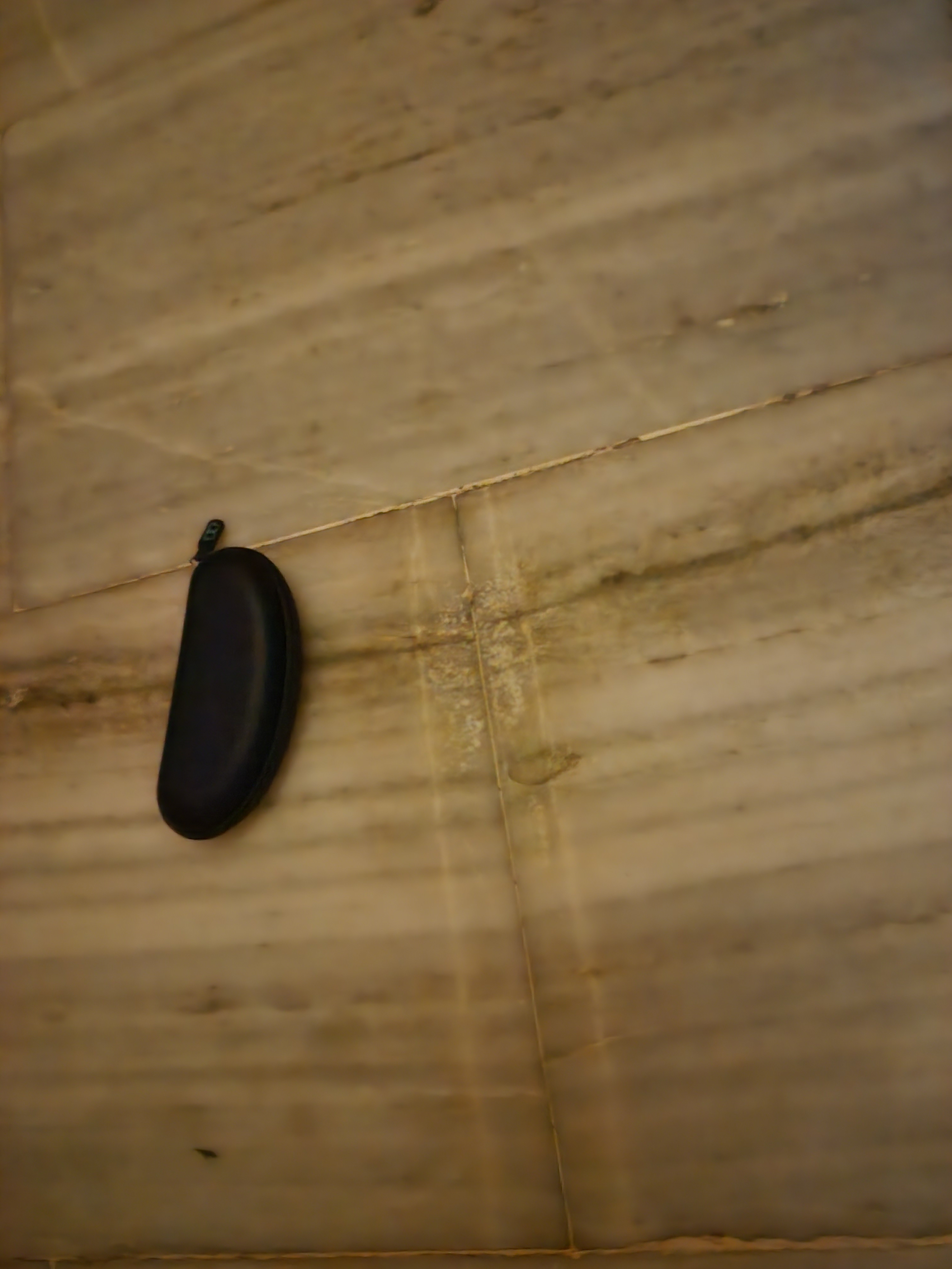case: (152, 518, 316, 843)
